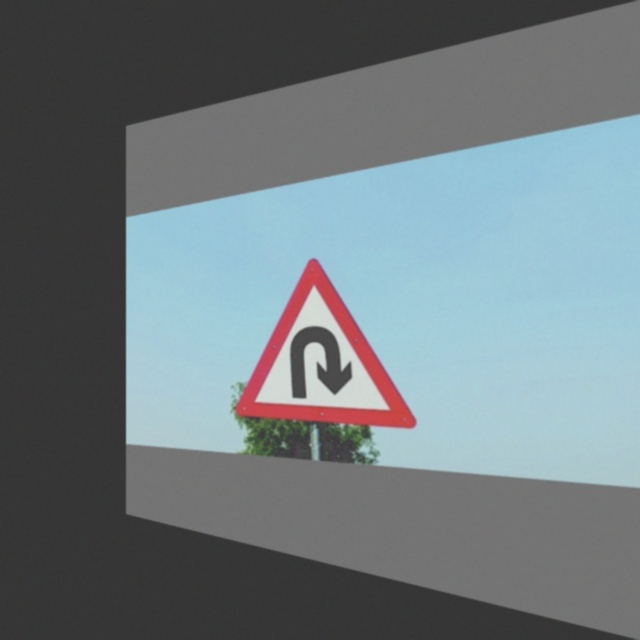Right_Hair_Pin_Bend: (232, 244, 421, 438)
